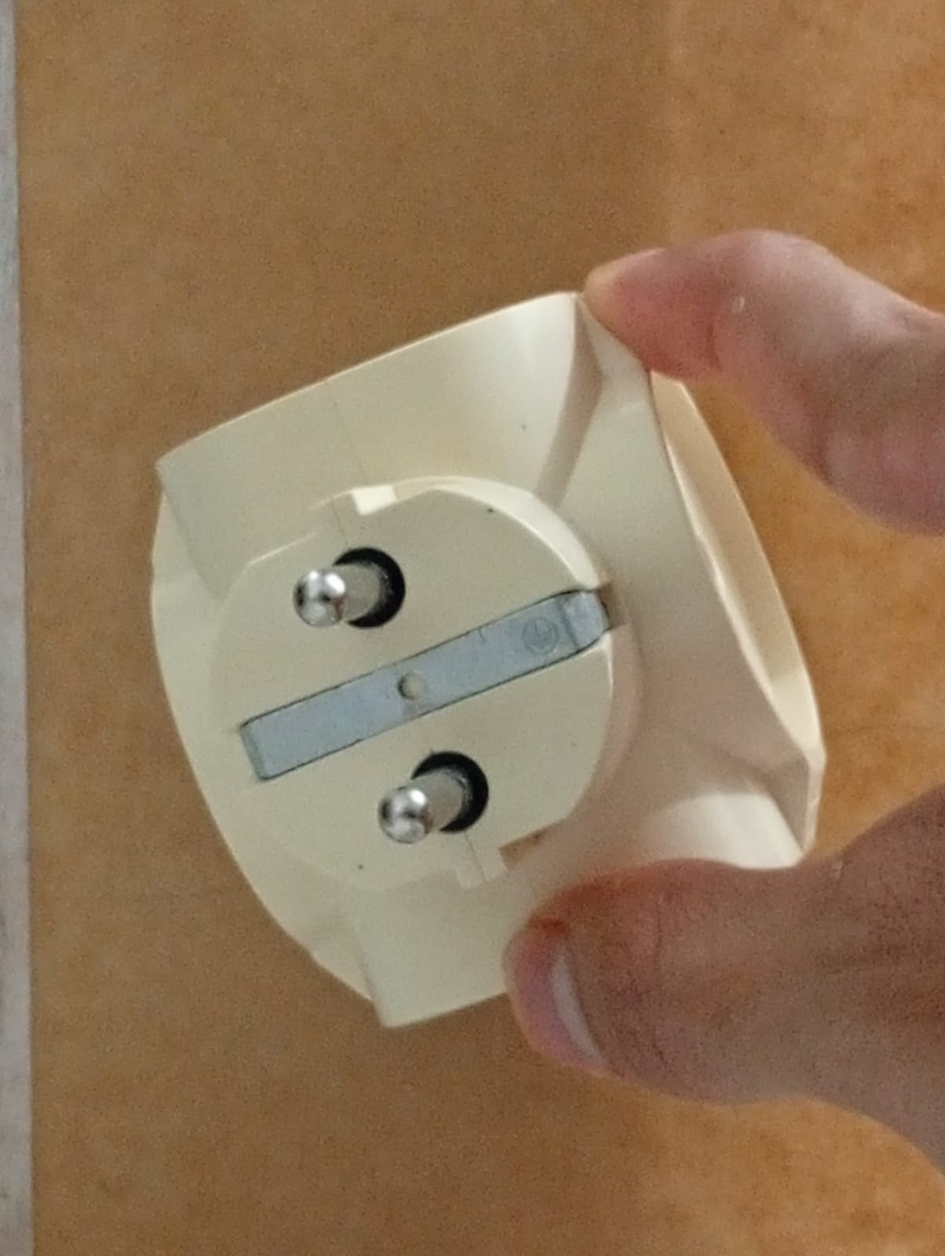Colokan: (88, 246, 872, 1068)
